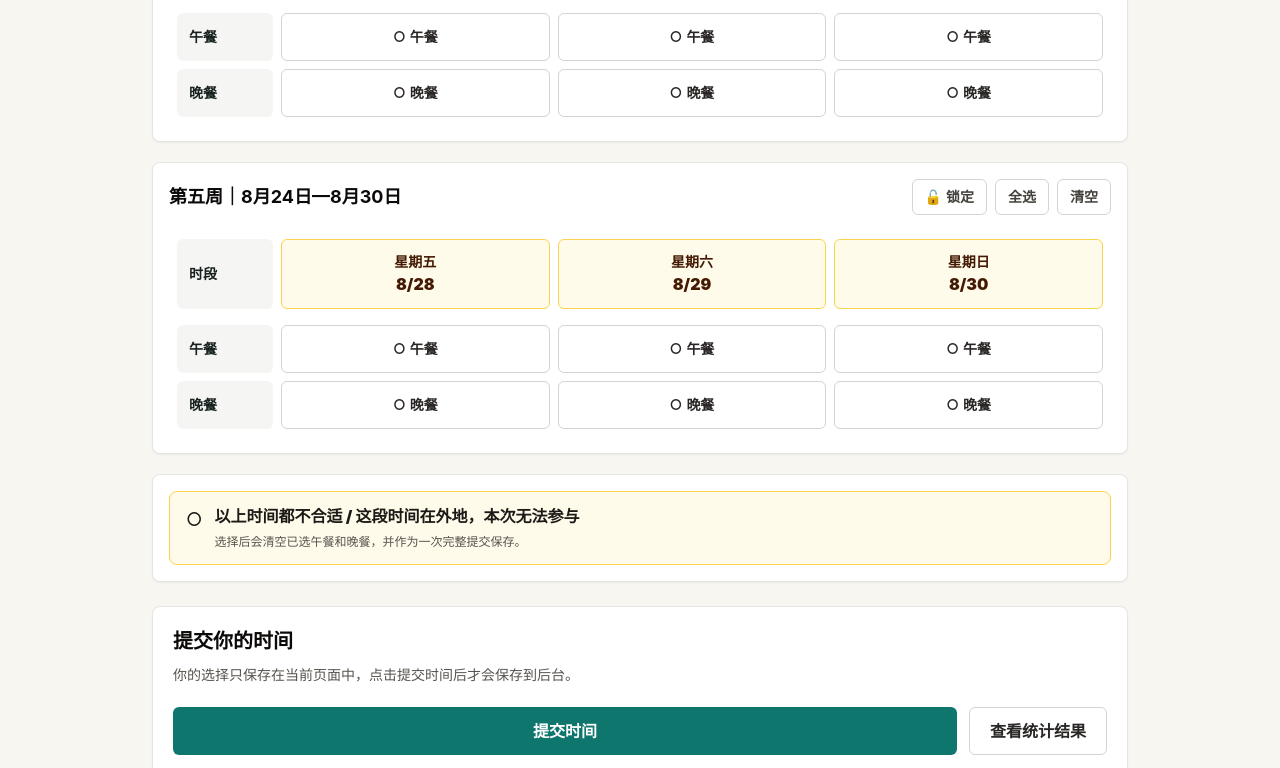
Scenario: App 提交流程 › 未填写姓名时不能提交
(page scrolled)
Click the button "提交时间". click: click(565, 731)
box: [173, 707, 957, 755]
(page scrolled)
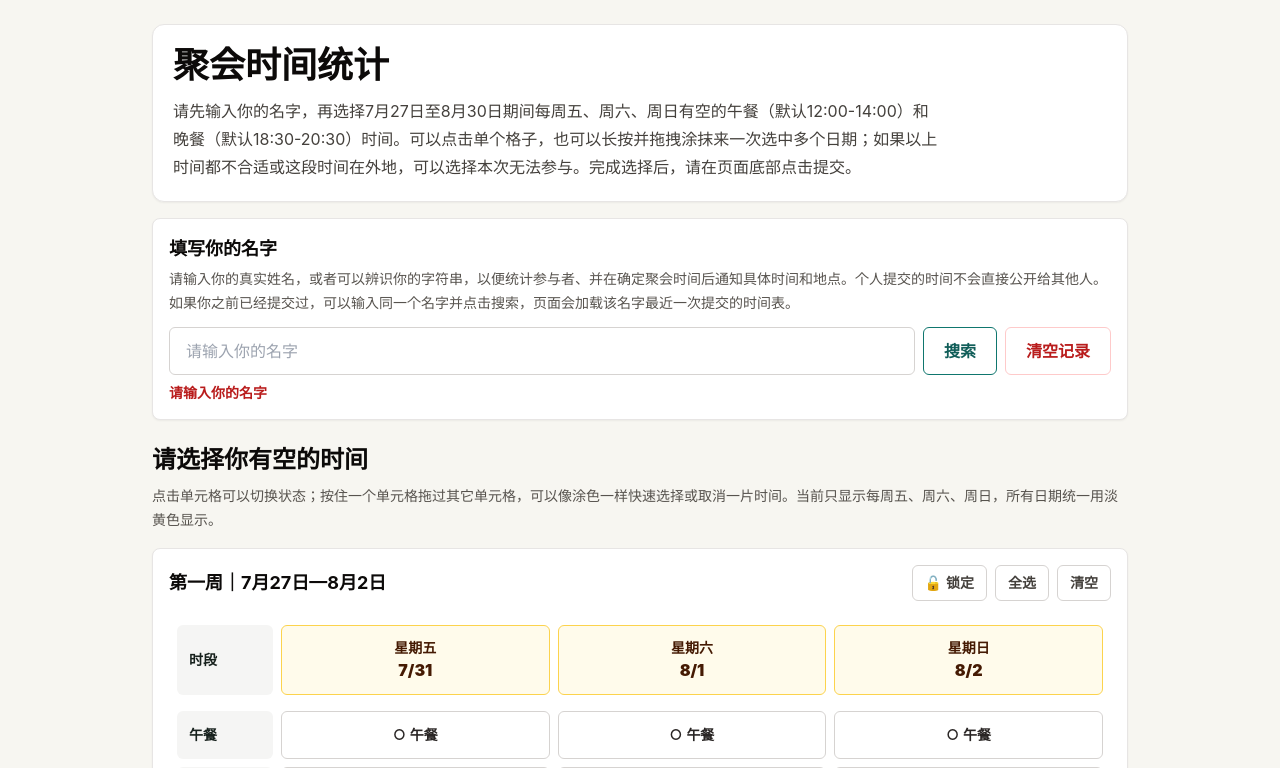
Now the text "请输入你的名字" is shown, box [169, 384, 267, 401]
